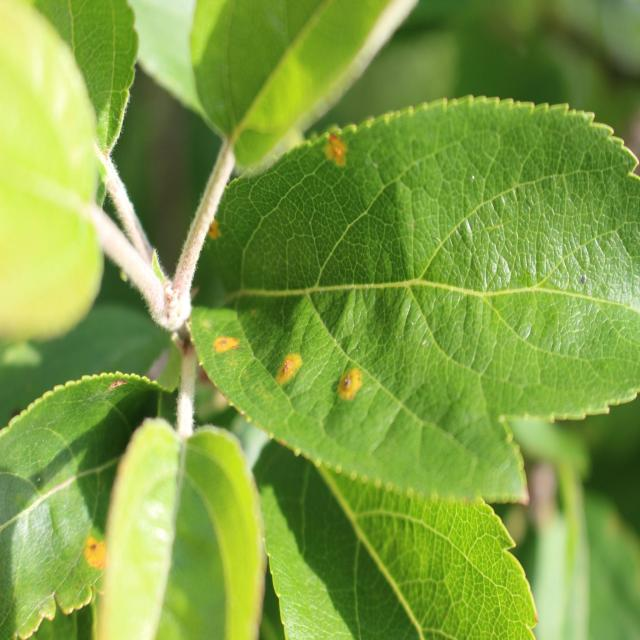Rust: (272, 337, 308, 399), (307, 135, 352, 175), (332, 364, 369, 412), (80, 534, 119, 576), (212, 327, 245, 370), (202, 212, 225, 244)
